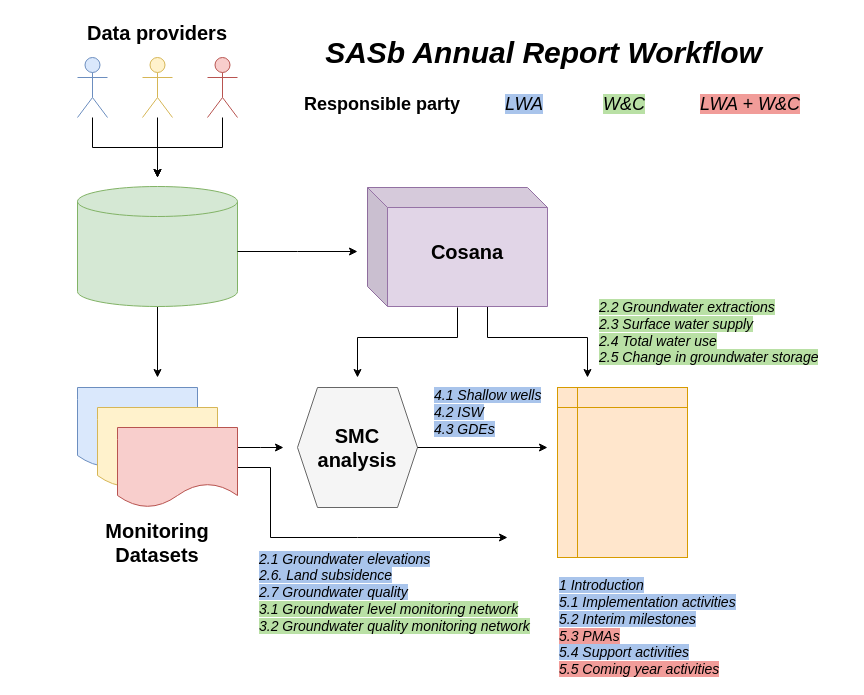
The diagram is 864 pixels wide and 695 high, and some of its shapes have lost their labels. The centre of each missing label's shape, as x and y in pixels:
"Annual report" belongs at (x=622, y=472).
"DMS" belongs at (x=157, y=246).
